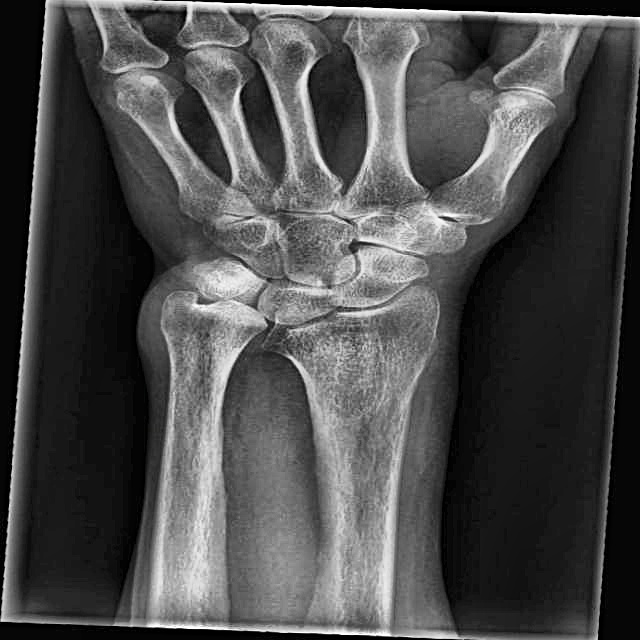Healthy: (89, 44, 524, 568)
